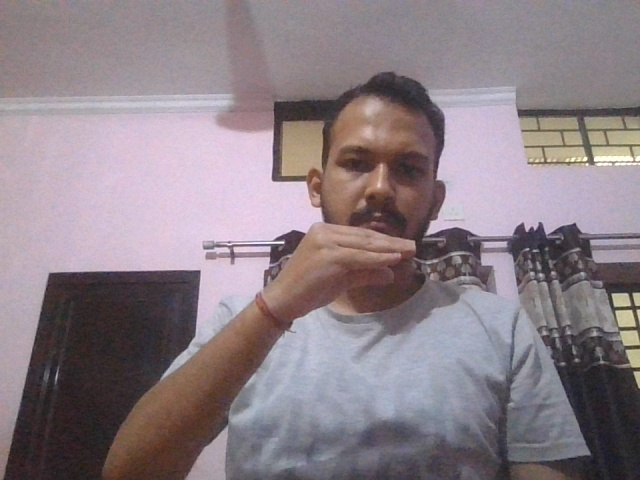no: (263, 222, 417, 318)
